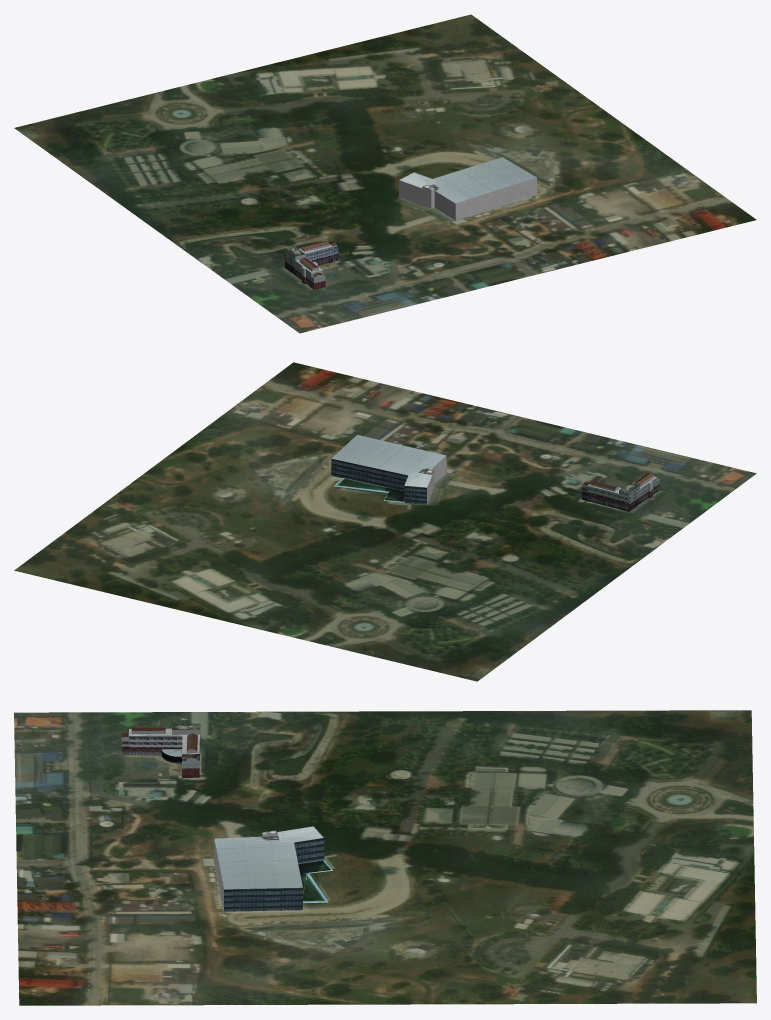
3 renders of one model, top to bottom at view 1: azimuth 30°, elevation 25°; view 2: azimuth 150°, elevation 25°; view 3: azimuth 270°, elevation 25°, orthographic. The views are drawn at different scales.
Parts seen in each view (by area): view 1: 36256, Component, Vertex View.kmz; view 2: 36256, Component, Vertex View.kmz; view 3: 36256, Component, Vertex View.kmz.
Boxes of the visible parts, left/top/right/bottom form: 36256: left=14, top=14, right=756, bottom=333; Component: left=399, top=157, right=536, bottom=220; Vertex View.kmz: left=285, top=241, right=338, bottom=289; 36256: left=14, top=362, right=756, bottom=681; Component: left=331, top=435, right=446, bottom=504; Vertex View.kmz: left=581, top=473, right=659, bottom=511; 36256: left=14, top=710, right=756, bottom=1005; Component: left=214, top=826, right=332, bottom=911; Vertex View.kmz: left=121, top=723, right=200, bottom=777.
Size of the model in its own units: 450 by 19.01 by 479.
341 materials, 201 textured.
